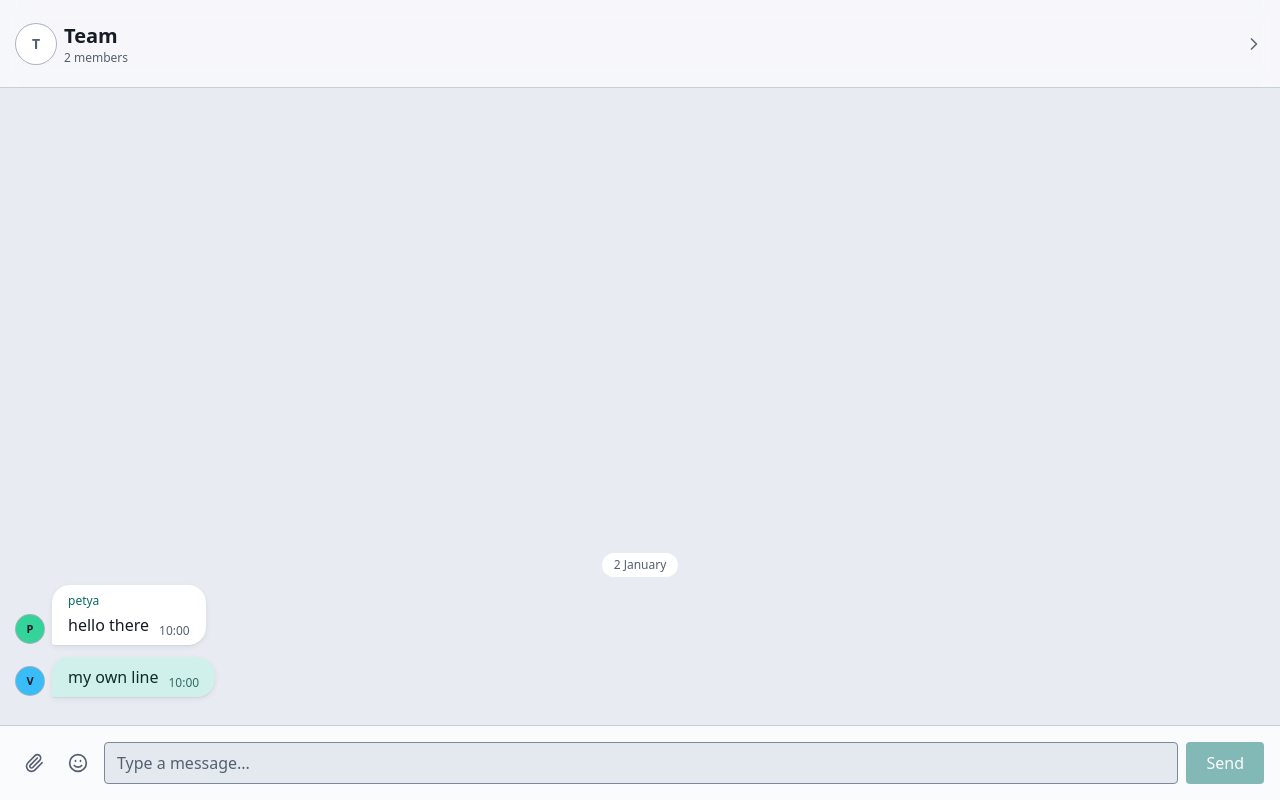
Test: ChatDetailPage › reports a failed send and keeps the text
Type "blocked line" into the field with placeholder "Type a message..." at {"x": 641, "y": 763}, box [104,742,1178,784]
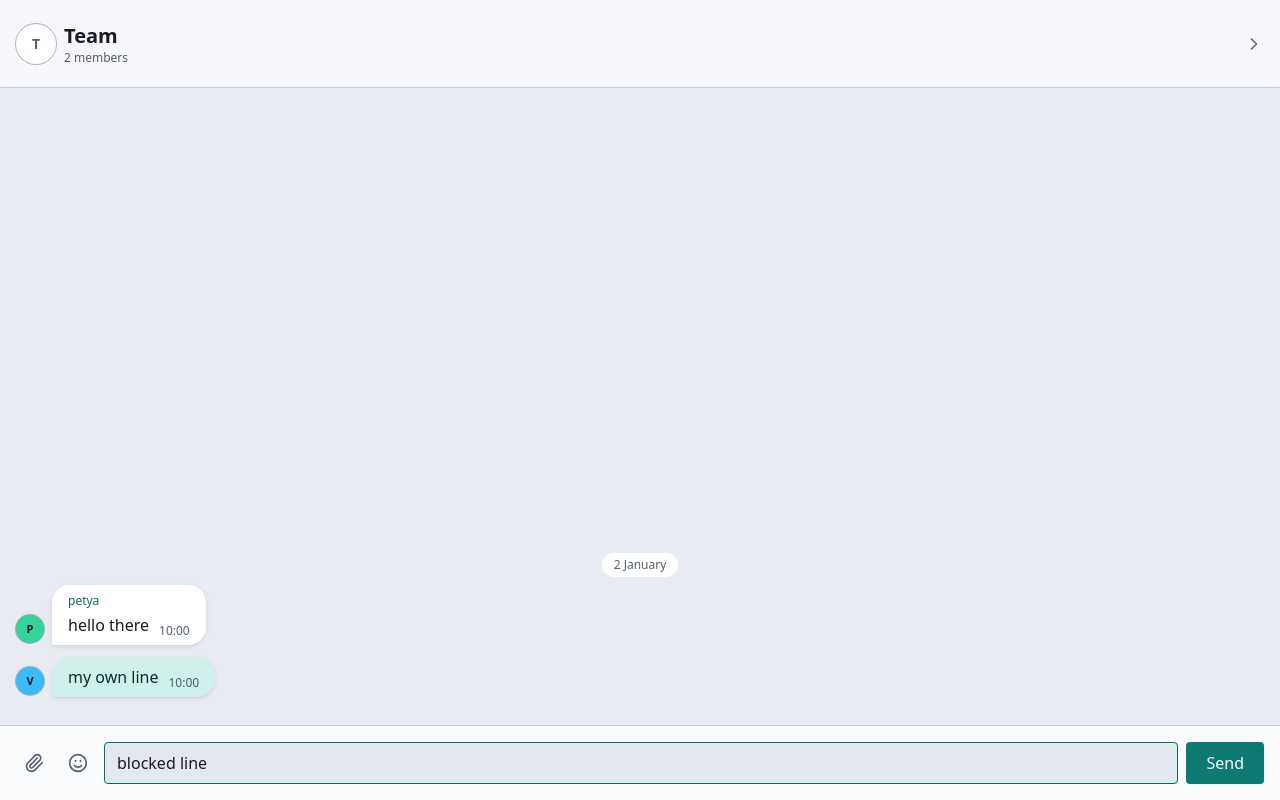
Click the button "Send" at {"x": 1225, "y": 763}, box [1186,742,1264,784]
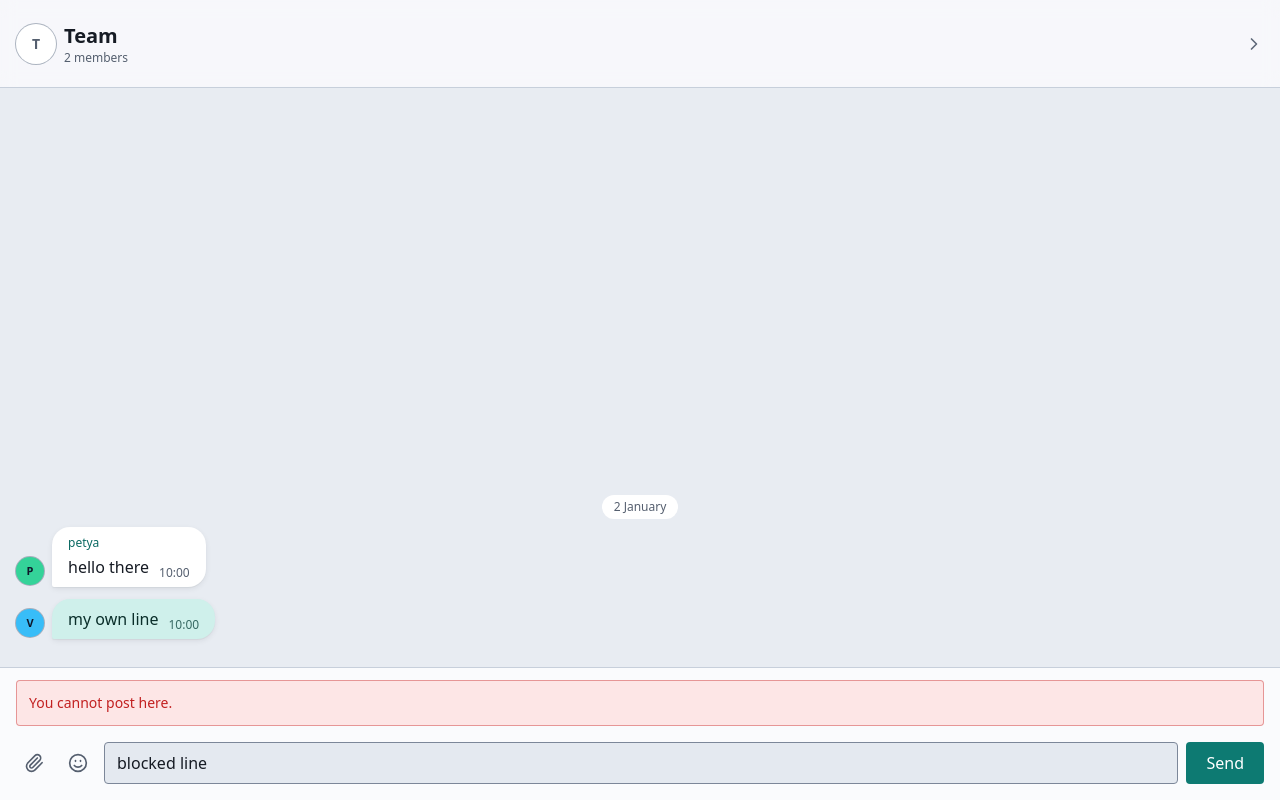
Now the text "You cannot post here." is shown, box [16,680,1264,726]
